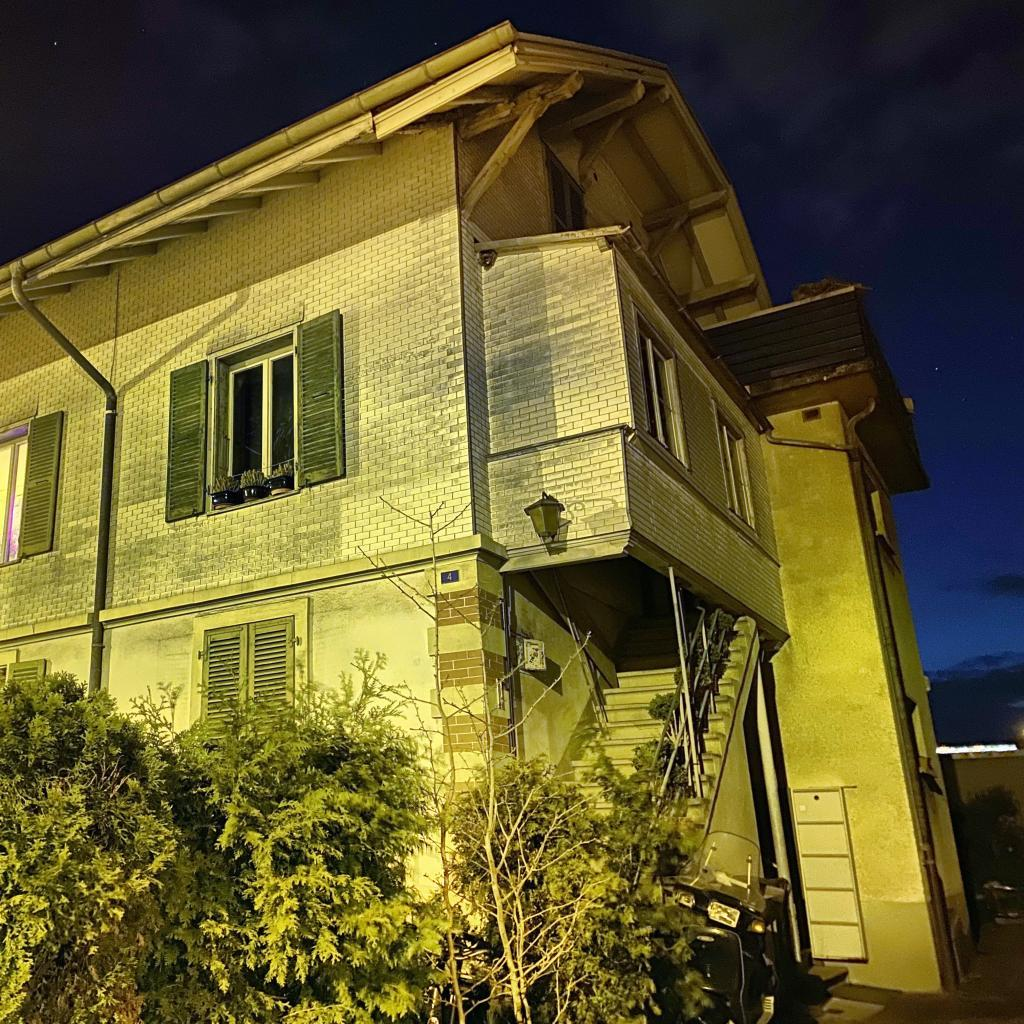facade: (1, 20, 980, 1024)
non-building-infrastructure: (940, 744, 1024, 919)
street: (809, 915, 1024, 1024)
vegetation: (2, 489, 740, 1024), (957, 781, 1024, 919)
window: (200, 615, 292, 769), (226, 342, 296, 492), (634, 304, 689, 468), (715, 400, 759, 535), (544, 143, 587, 234), (0, 434, 28, 568)
